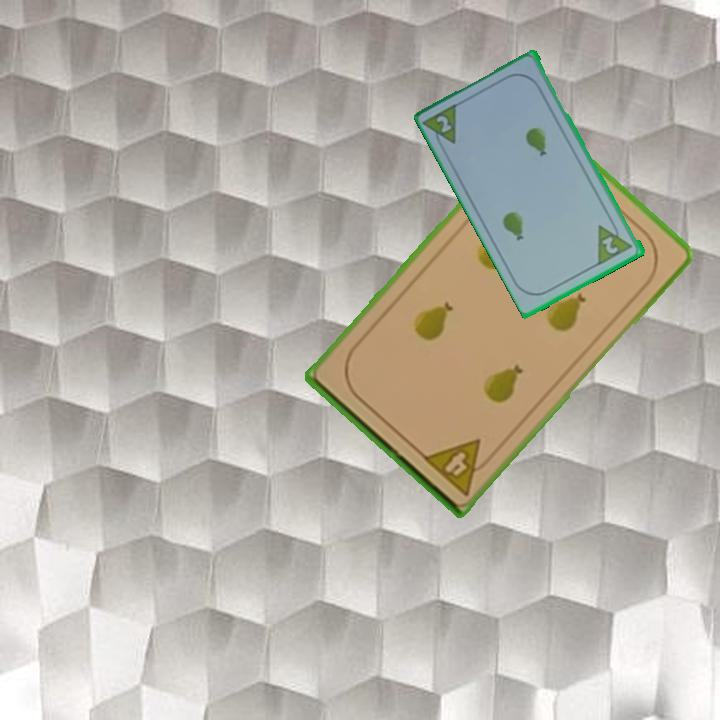2p: (599, 233, 622, 257), (433, 112, 455, 136)
4p: (418, 434, 497, 499)
